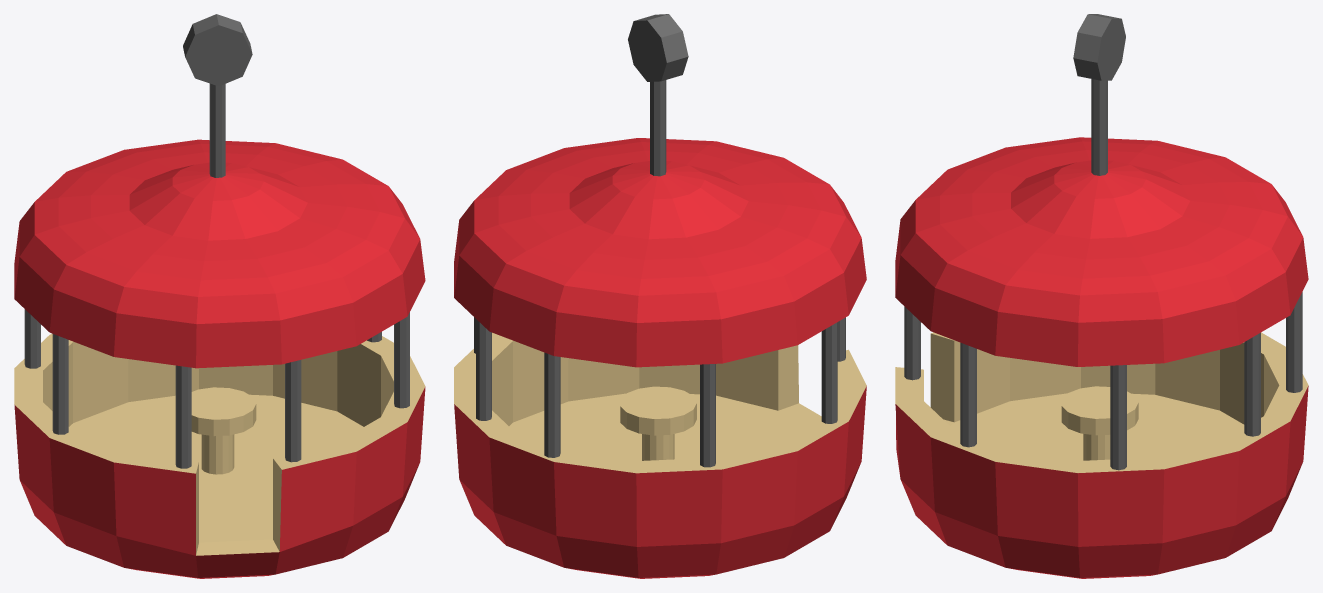
File: Cart.fbx
3 renders of one model, left to right at view 1: azimuth 30°, elevation 25°; view 2: azimuth 150°, elevation 25°; view 3: azimuth 270°, elevation 25°, orthographic.
Visible parts, largest first — view 1: Sphere.001; view 2: Sphere.001; view 3: Sphere.001.
Part boxes in pixels (x1,y1,x2,y2): Sphere.001: [14, 14, 425, 578]; Sphere.001: [454, 14, 866, 578]; Sphere.001: [895, 14, 1308, 578].
Bounding box in the file's own units: 199 × 271 × 198.
